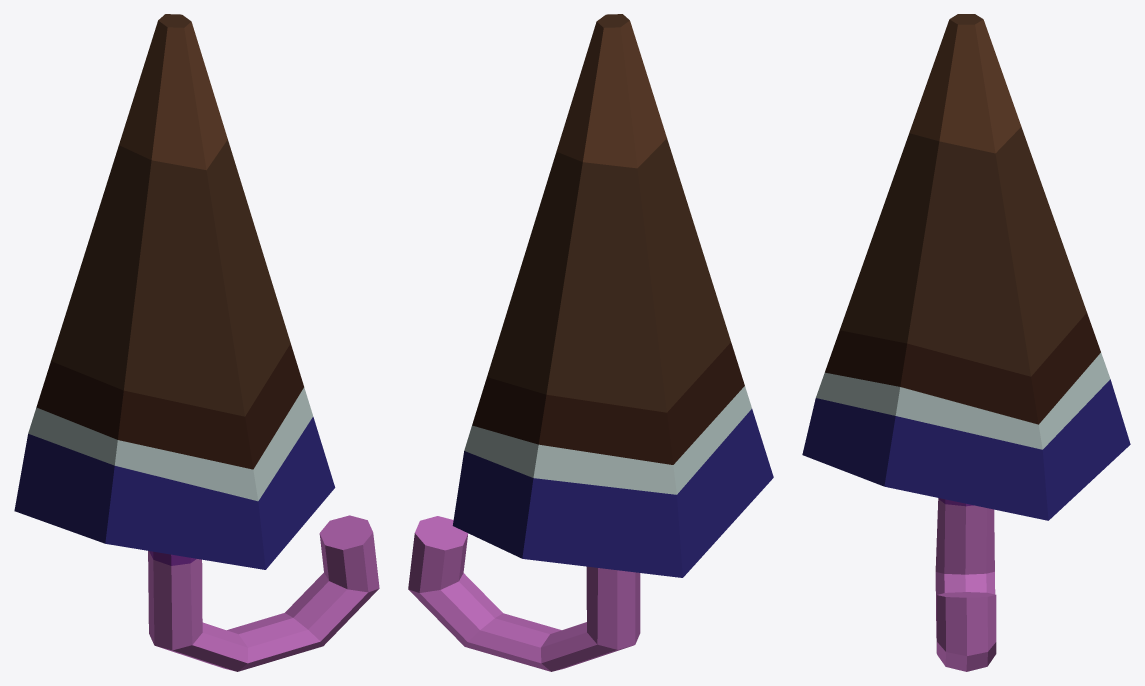
File: UmbrellaPowerUp.fbx
3 views of the same model, side by side, from view 1: azimuth 30°, elevation 25°; view 2: azimuth 150°, elevation 25°; view 3: azimuth 270°, elevation 25° (orthographic). The views are drawn at different scales.
Visible parts, largest first — view 1: GuardachuvinhaPowerUp; view 2: GuardachuvinhaPowerUp; view 3: GuardachuvinhaPowerUp.
Part boxes in pixels (x1,y1,x2,y2): GuardachuvinhaPowerUp: (14,14,379,671); GuardachuvinhaPowerUp: (408,14,773,671); GuardachuvinhaPowerUp: (802,14,1130,671).
Size of the model in its own units: 20 by 40 by 20.
